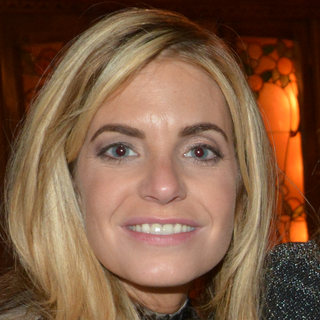eye: (94, 139, 142, 164), (179, 139, 225, 165)
